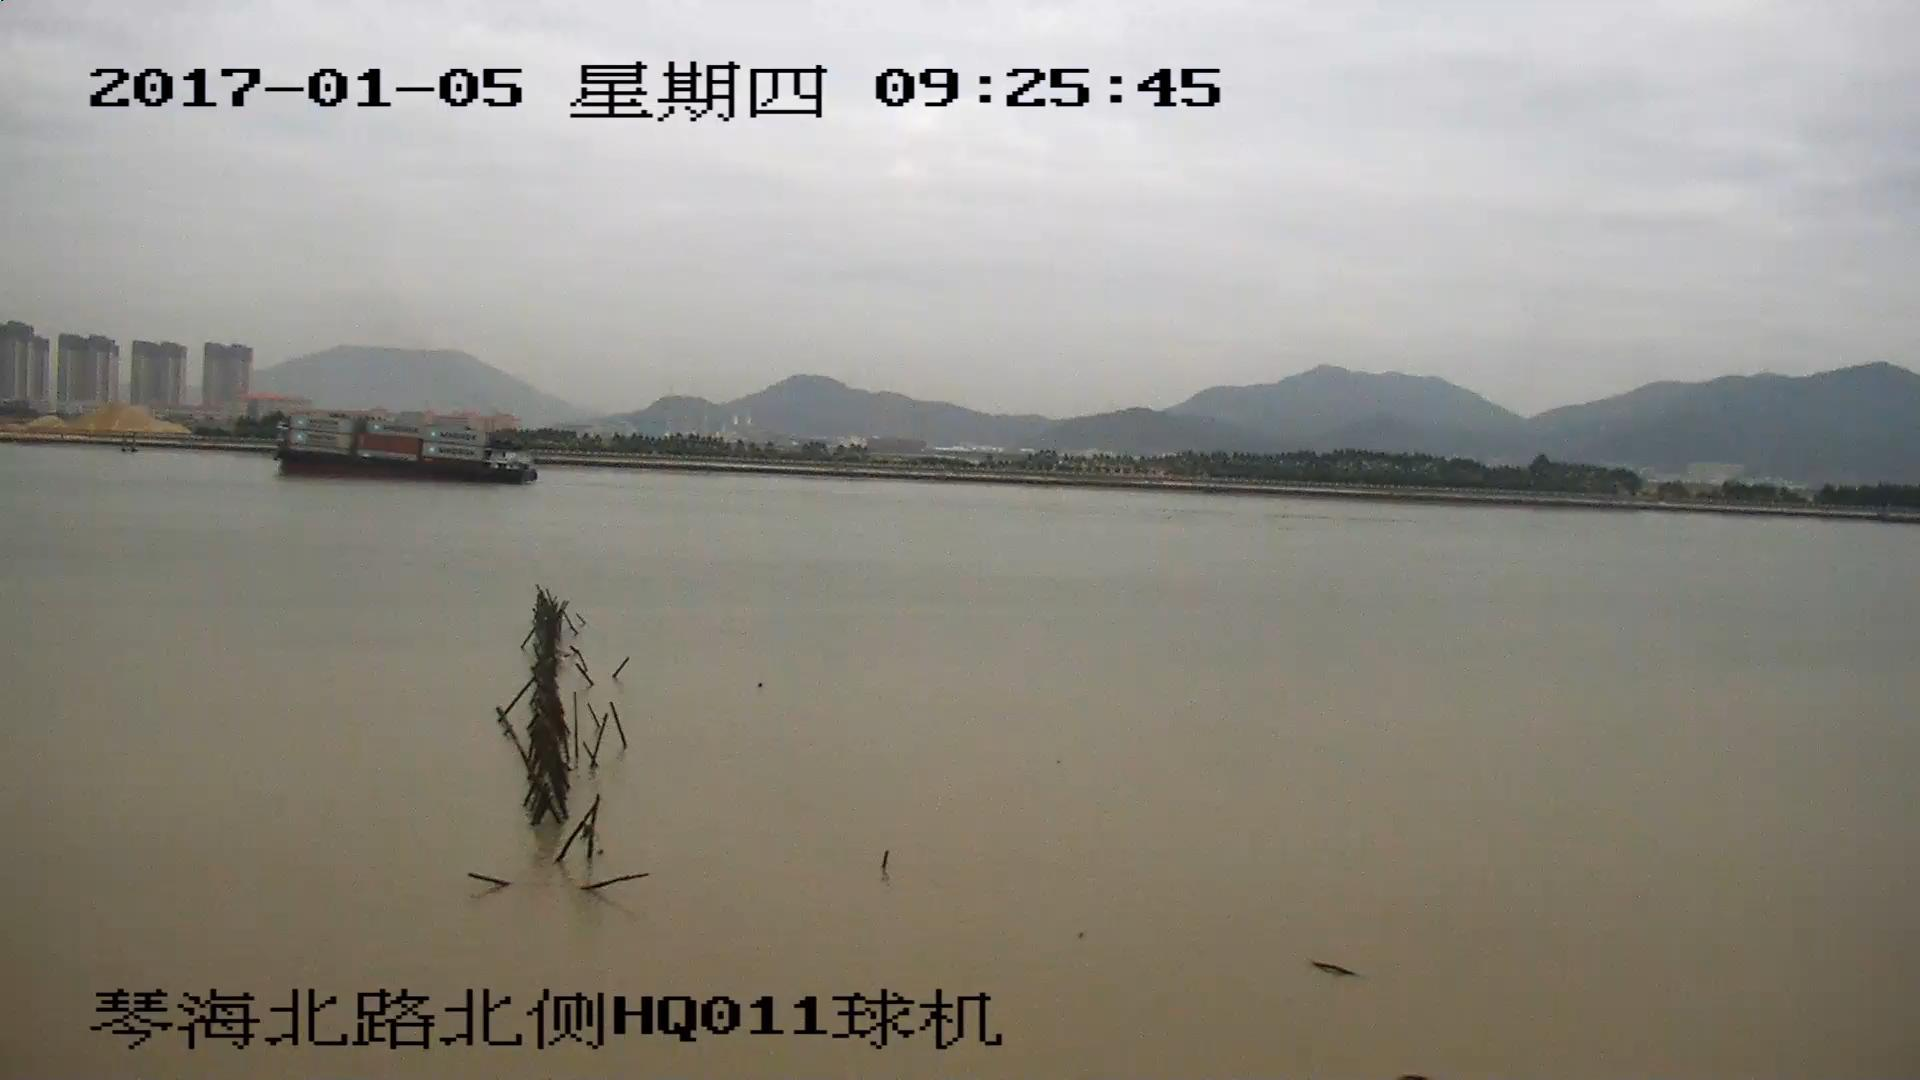Ship: (272, 415, 541, 485)
